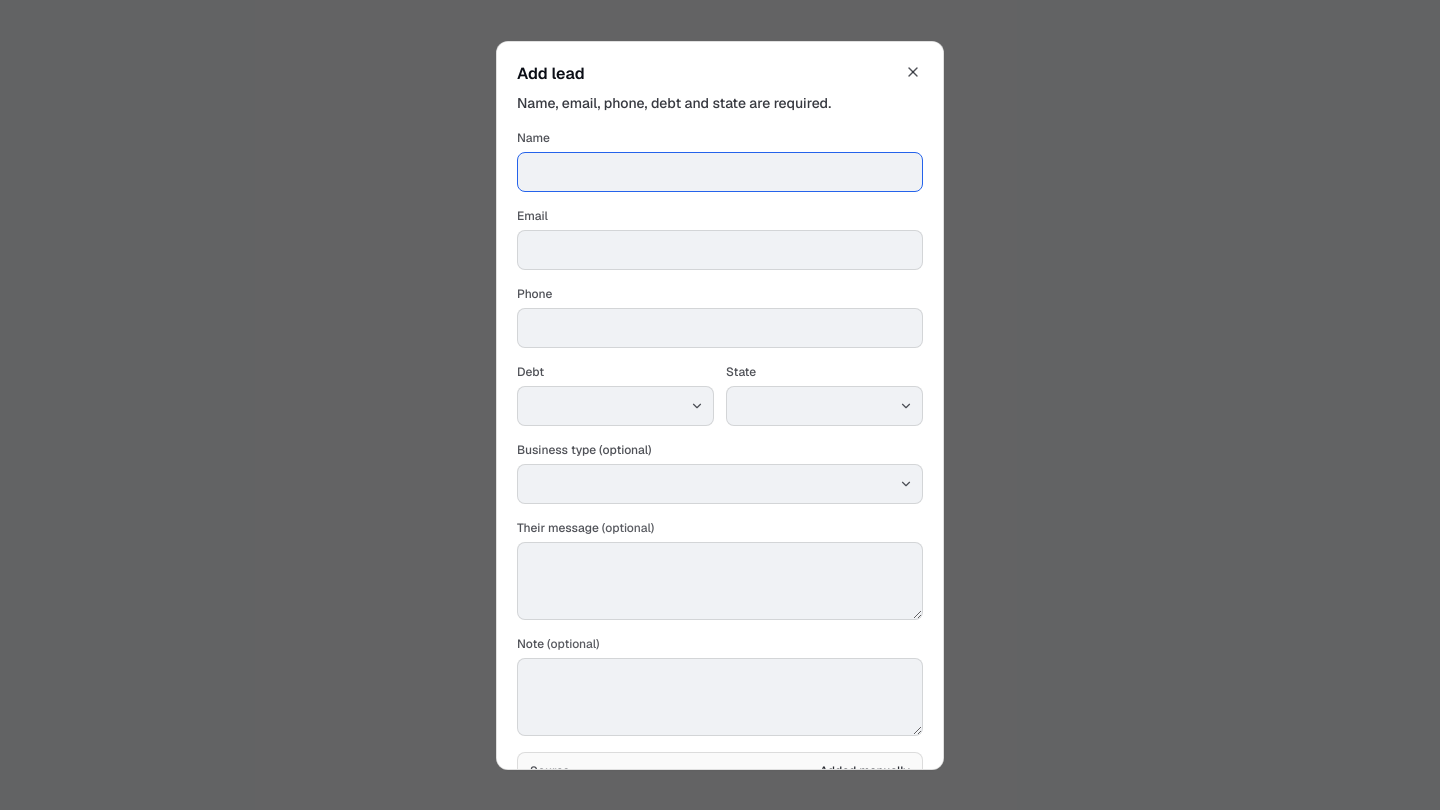
AddLeadDialog — the State dropdown › closes on a click elsewhere in the form
Click the button named "State": (824, 406) [726,386,923,426]
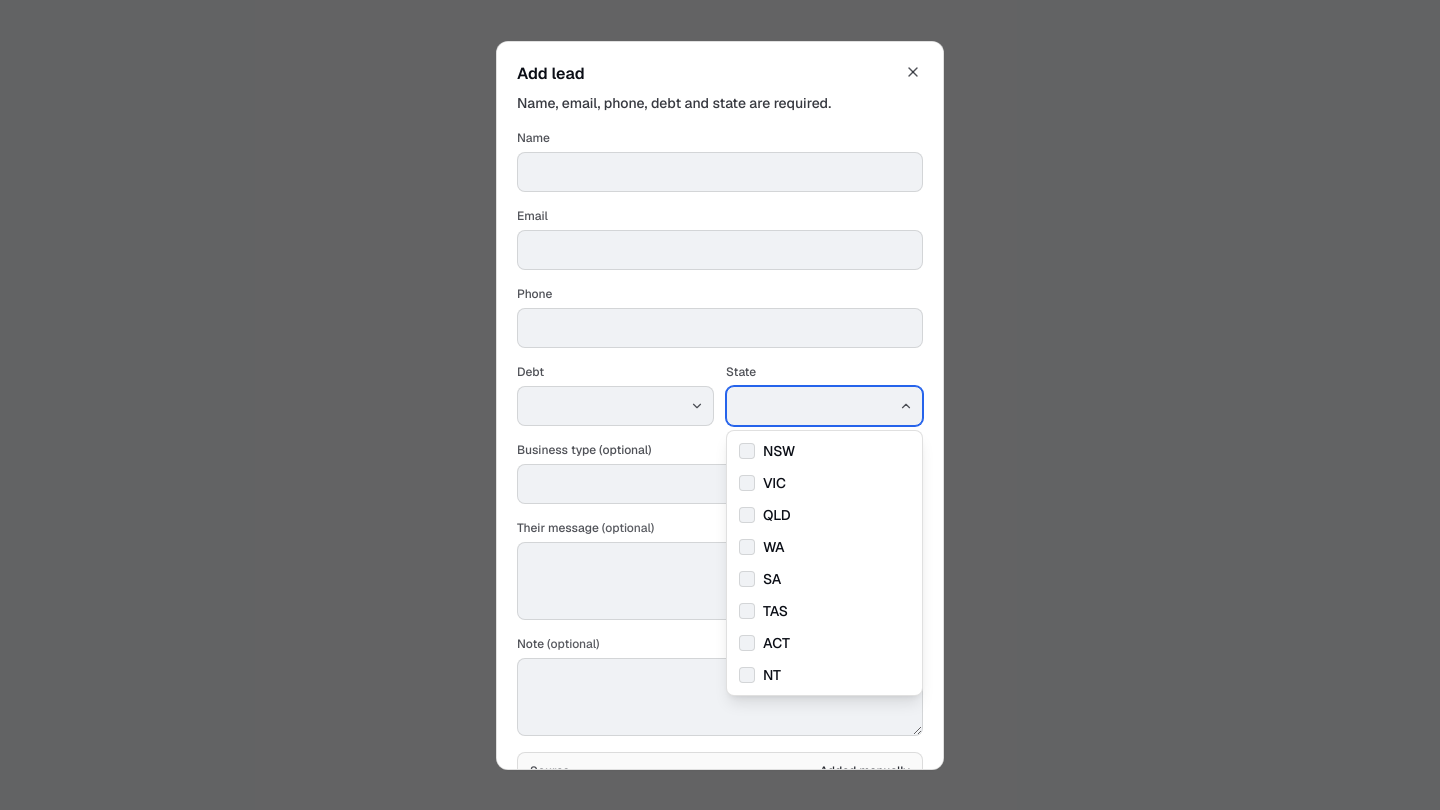
Click the checkbox labelled "QLD": (765, 515) [739,506,791,524]
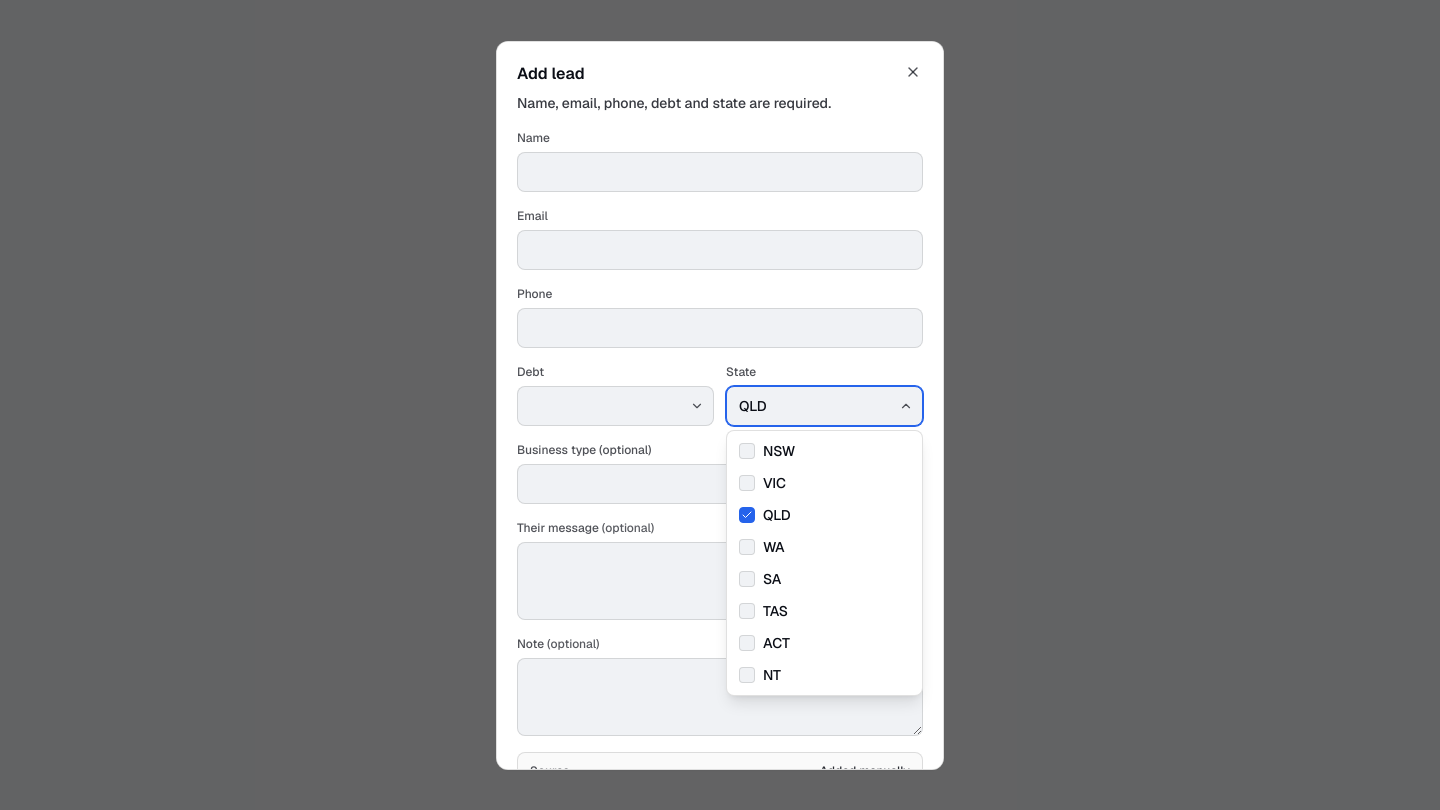
Click the field labelled "Name": (720, 172) [517,152,923,192]
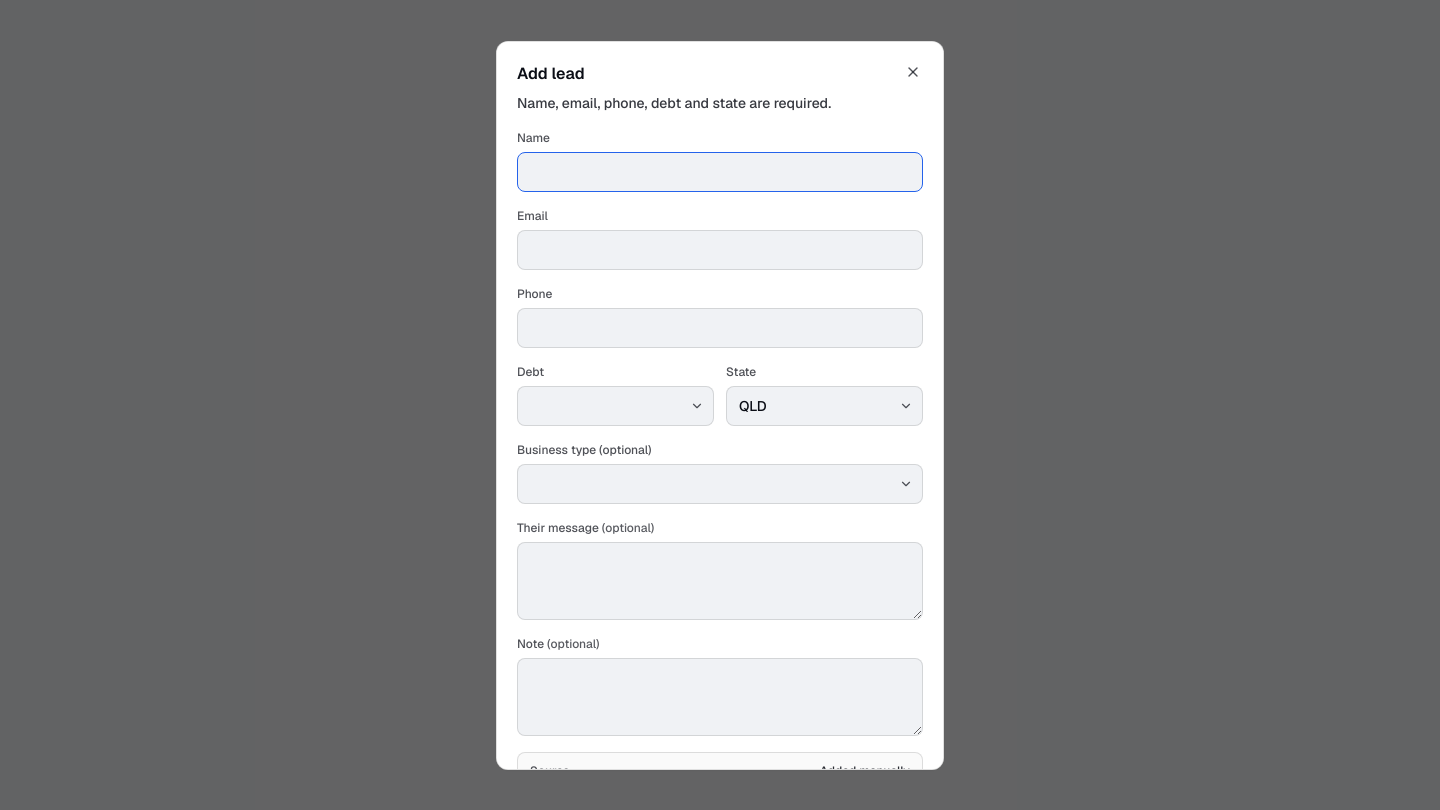
Expected: the button named "State" reads "QLD", [726,386,923,426]
Expected: the checkbox is gone
